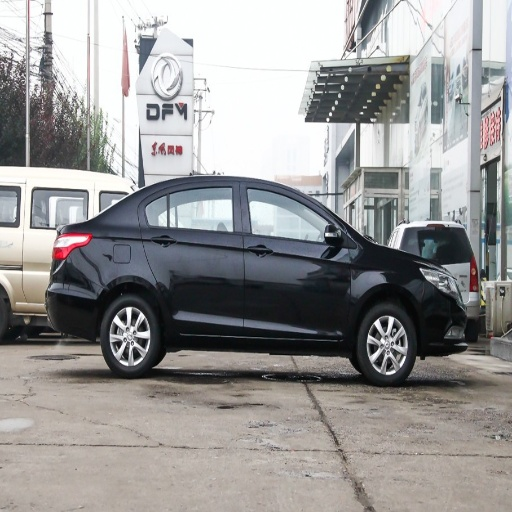back_right_door: (141, 180, 243, 333)
front_right_door: (243, 181, 351, 337)
